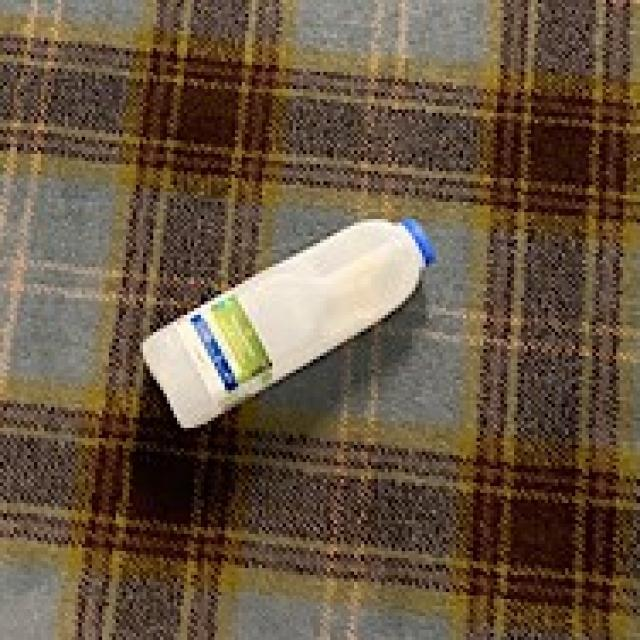HDPE Plastic: (136, 214, 438, 432)
